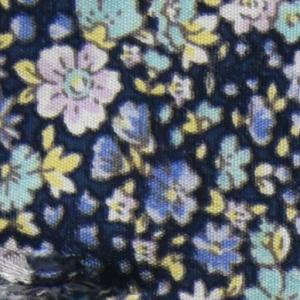Damage: (1, 247, 177, 300)
